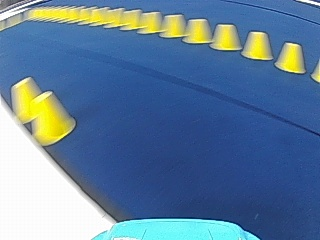cone: (33, 91, 77, 146), (10, 76, 47, 123), (274, 40, 307, 75), (242, 32, 272, 62), (209, 24, 240, 50), (184, 19, 212, 44), (162, 14, 185, 38)
